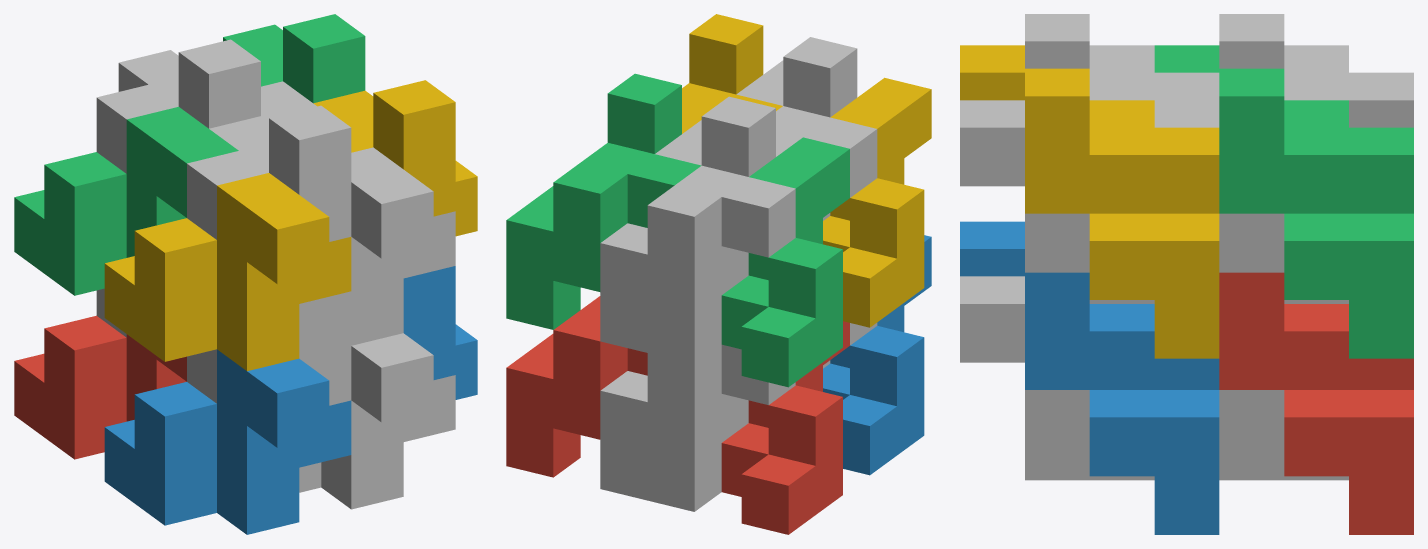
File: tiling.obj
3 views of the same model, side by side, from view 1: azimuth 30°, elevation 25°; view 2: azimuth 150°, elevation 25°; view 3: azimuth 270°, elevation 25° (orthographic). The views are drawn at different scales.
Parts seen in each view (by area): view 1: copy_1_domain_4, copy_1_domain_2, copy_1_domain_3, copy_1_domain_1, copy_1_domain_6, copy_1_domain_8, copy_2_domain_4, copy_2_domain_3, copy_2_domain_8, copy_2_domain_7, copy_2_domain_6, copy_2_domain_2 (+1 smaller); view 2: copy_2_domain_3, copy_2_domain_7, copy_1_domain_3, copy_1_domain_4, copy_2_domain_1, copy_1_domain_1, copy_2_domain_5, copy_1_domain_2, copy_2_domain_4, copy_2_domain_8, copy_1_domain_7, copy_1_domain_5 (+1 smaller); view 3: copy_2_domain_8, copy_2_domain_7, copy_2_domain_6, copy_2_domain_5, copy_1_domain_6, copy_2_domain_3, copy_1_domain_8, copy_2_domain_4, copy_1_domain_5, copy_1_domain_7, copy_1_domain_2, copy_1_domain_4 (+1 smaller).
Part boxes in pixels (x1,y1,x2,y2): copy_1_domain_4: (104, 173, 351, 371); copy_1_domain_2: (104, 349, 351, 534); copy_1_domain_3: (14, 106, 238, 295); copy_1_domain_1: (14, 315, 186, 459); copy_1_domain_6: (299, 333, 455, 509); copy_1_domain_8: (351, 147, 455, 345); copy_2_domain_4: (187, 105, 351, 241); copy_2_domain_3: (96, 39, 260, 173); copy_2_domain_8: (313, 80, 477, 236); copy_2_domain_7: (223, 14, 365, 103); copy_2_domain_6: (403, 266, 477, 399); copy_2_domain_2: (187, 291, 351, 405); copy_2_domain_3: (600, 96, 795, 352); copy_2_domain_7: (506, 73, 701, 329); copy_1_domain_3: (721, 137, 849, 387); copy_1_domain_4: (823, 77, 931, 327); copy_2_domain_1: (600, 344, 795, 500); copy_1_domain_1: (721, 321, 849, 534); copy_2_domain_5: (506, 296, 647, 477); copy_1_domain_2: (823, 235, 931, 475); copy_2_domain_4: (776, 37, 877, 197); copy_2_domain_8: (682, 14, 782, 133); copy_1_domain_7: (647, 120, 748, 364); copy_1_domain_5: (647, 394, 748, 511); copy_2_domain_8: (1025, 68, 1219, 358); copy_2_domain_7: (1219, 68, 1413, 358); copy_2_domain_6: (1025, 272, 1219, 534); copy_2_domain_5: (1219, 272, 1413, 534); copy_1_domain_6: (960, 276, 1154, 480); copy_2_domain_3: (1219, 14, 1413, 127); copy_1_domain_8: (960, 100, 1154, 303); copy_2_domain_4: (1025, 14, 1219, 100); copy_1_domain_5: (1219, 390, 1348, 480); copy_1_domain_7: (1154, 100, 1348, 303); copy_1_domain_2: (960, 221, 1024, 276); copy_1_domain_4: (960, 45, 1024, 100).
Size of the model in its own units: 6 by 7 by 7.
